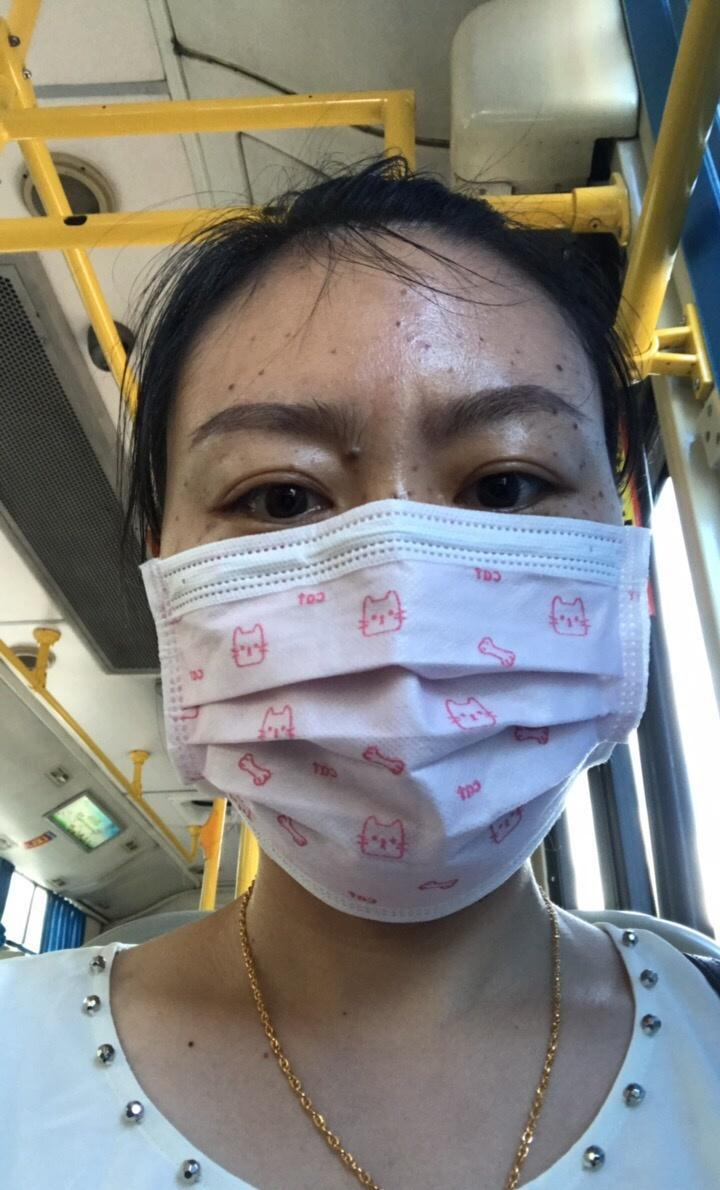OK: (126, 350, 656, 897)
